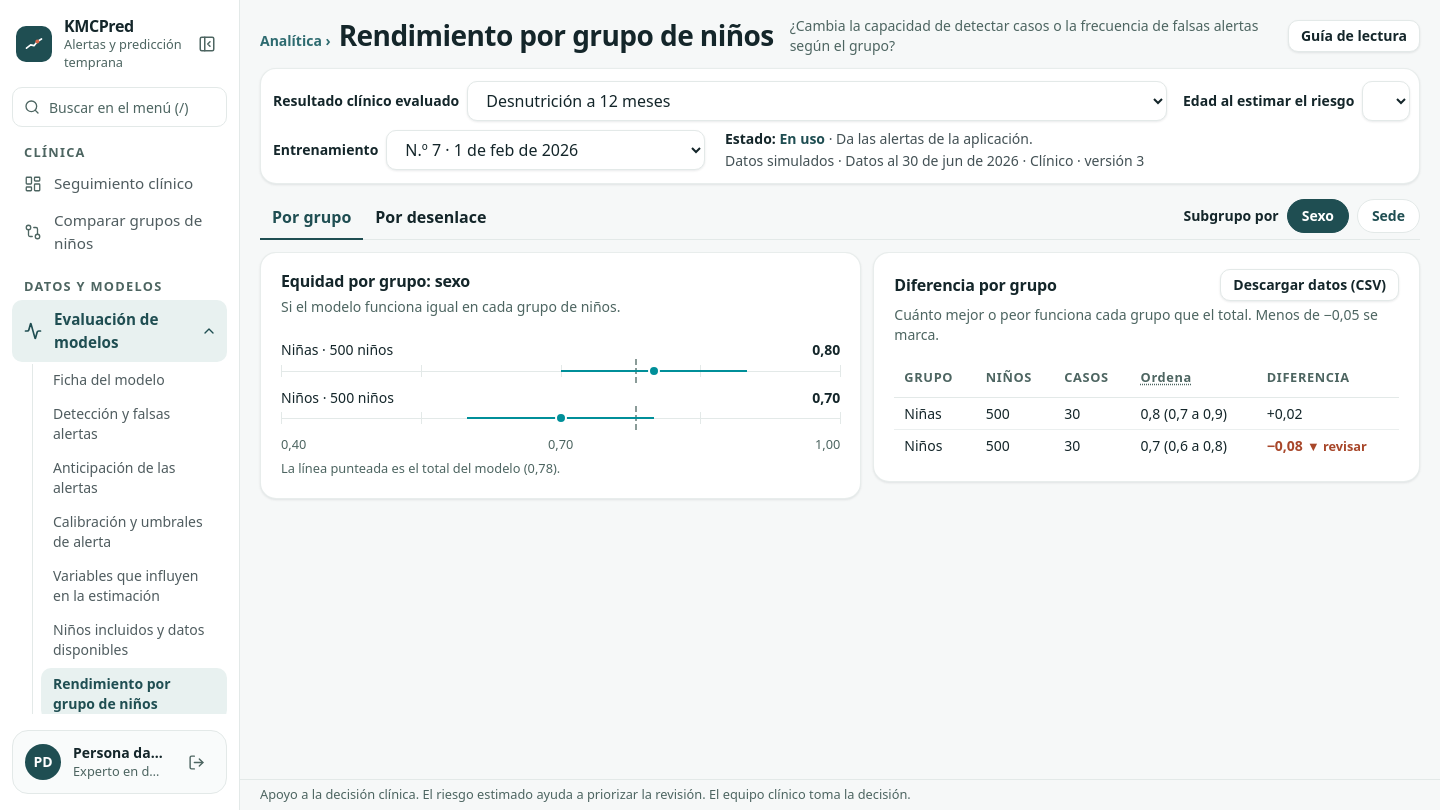
Equidad en pestañas › abre en «Por grupo» con el bosque y la tabla de diferencias; el mapa va en «Por desenlace»
Expected: the heading "Diferencia por grupo" is shown, [894, 273, 1057, 297]
Expected: the heading "Equidad por grupo: sexo" is shown, [281, 269, 470, 293]
Click the tab "Por desenlace" at (431,218), box [363, 196, 498, 240]
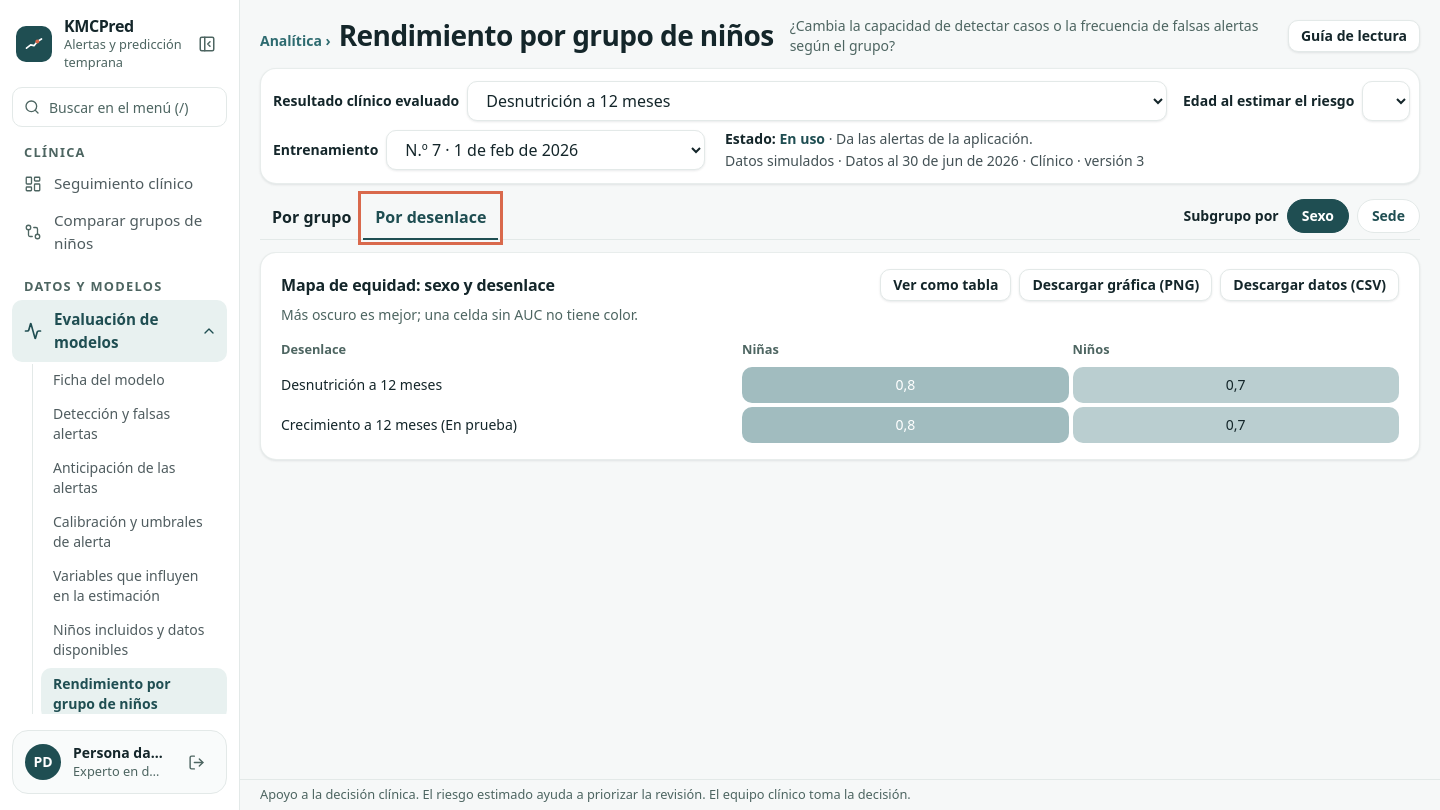
Now the table named "Qué tan bien ordena por grupo y desenlace" is shown, box [281, 341, 1399, 443]
Now the heading "Diferencia por grupo" is gone
